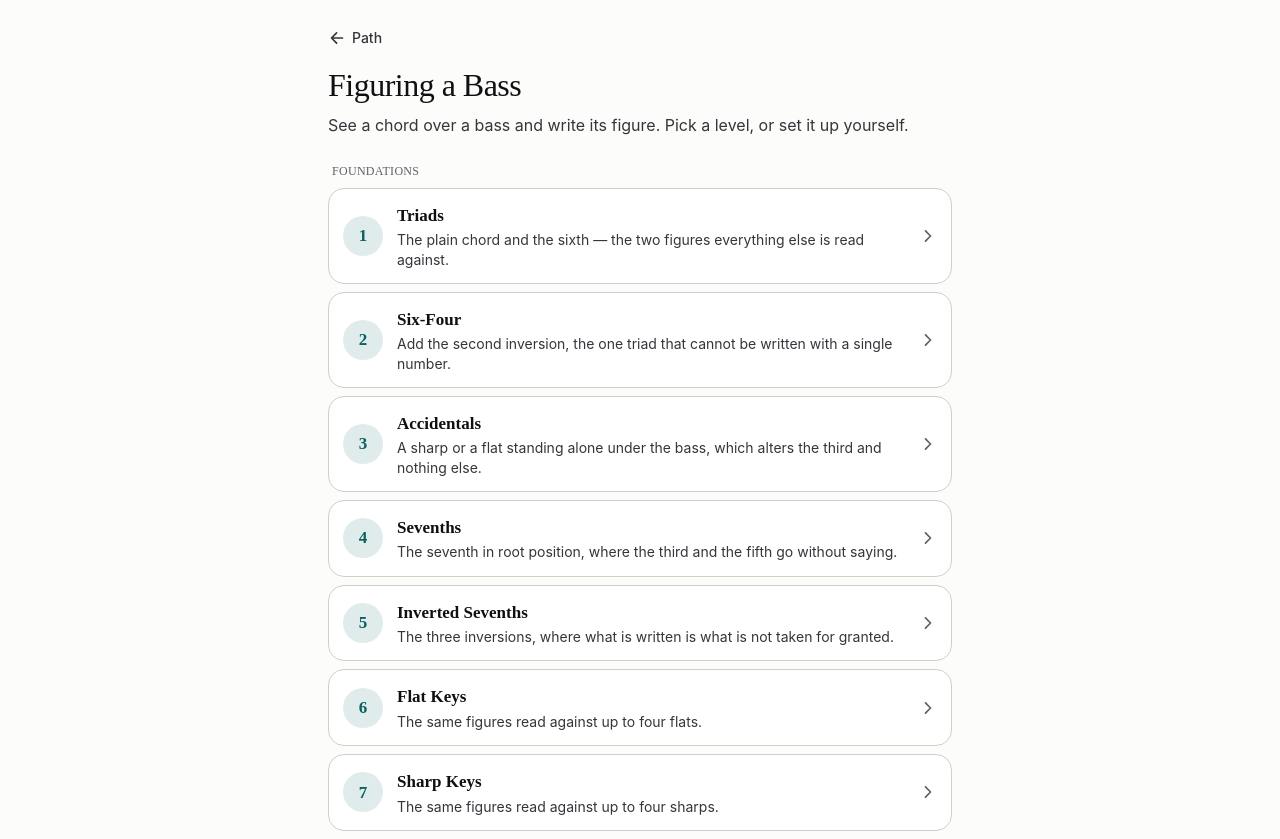
figuring a bass › opens on the levels, and starts a round in the same tap
Expected: the text "Triads" is shown, [397,206,444,225]
Click the button "Triads": [640, 236] box [328,188,952,284]
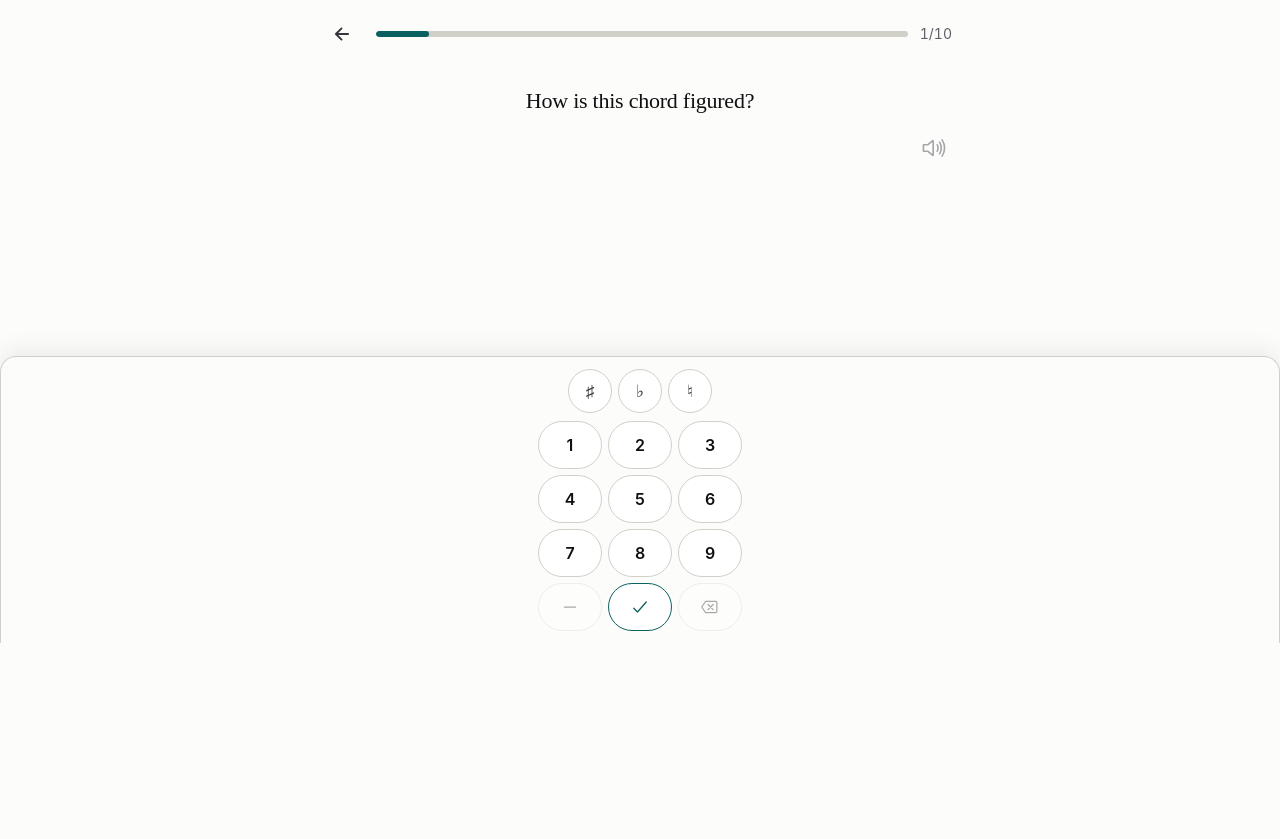
Now the heading "How is this chord figured?" is shown, box [526,88,754,114]
Now the progress indicator is shown, box [376,31,908,37]
